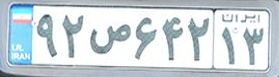character: (89, 9, 133, 62), (60, 8, 88, 61), (187, 11, 212, 66), (160, 11, 186, 63), (134, 12, 159, 65), (35, 7, 59, 60), (241, 24, 266, 67), (220, 24, 241, 67)
